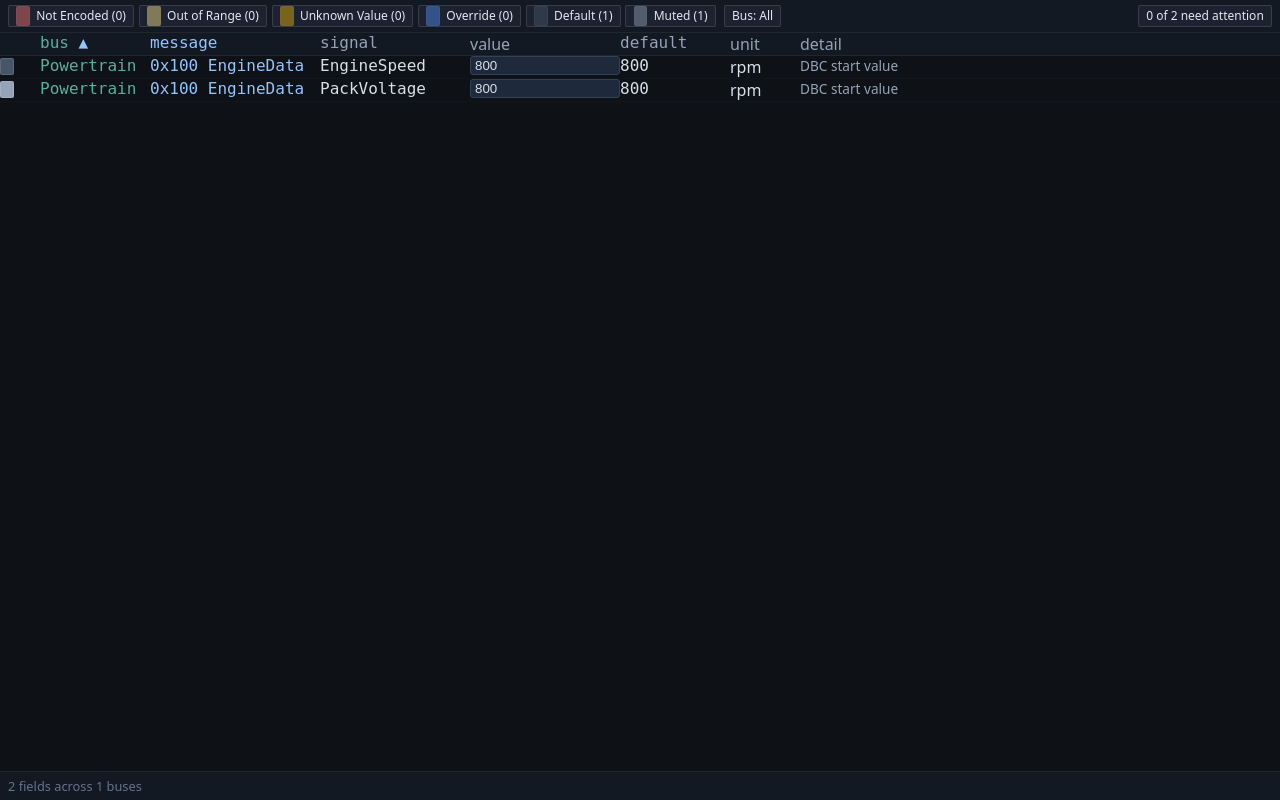
Test: RbsSignalsPanel › filters to exactly the selected status chip
Expected: the text "EngineSpeed" is shown, [320,56,426,75]
What coordinates should you click on to do the following:
click the button "Muted (1)"
I would click on:
 (671, 16)
Its box is [626,5,716,27].
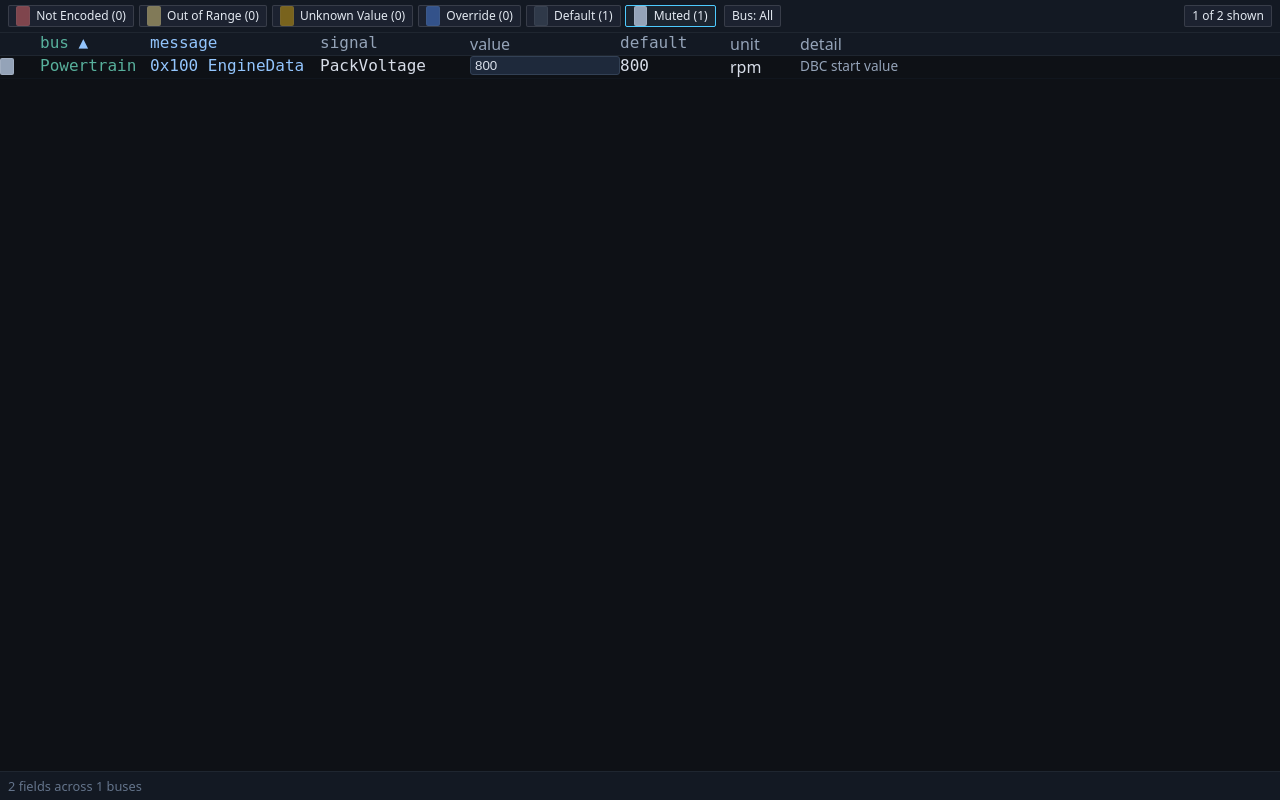
Expected: the text "PackVoltage" is shown, [320,56,426,75]
Expected: the text "EngineSpeed" is gone
